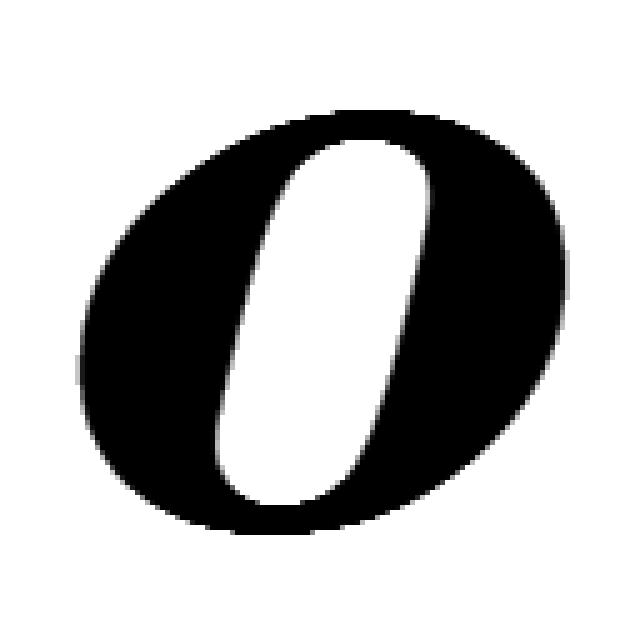O: (75, 110, 570, 540)
